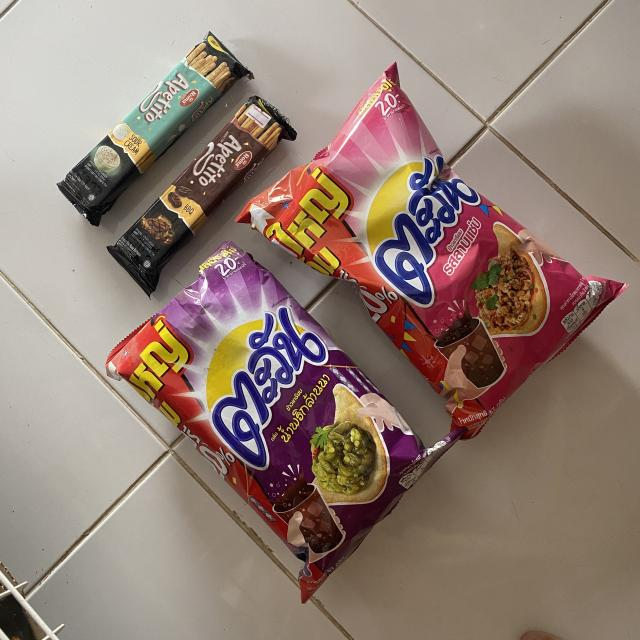plastik: (236, 64, 626, 439), (106, 241, 465, 602), (58, 34, 252, 225), (108, 98, 295, 295)
